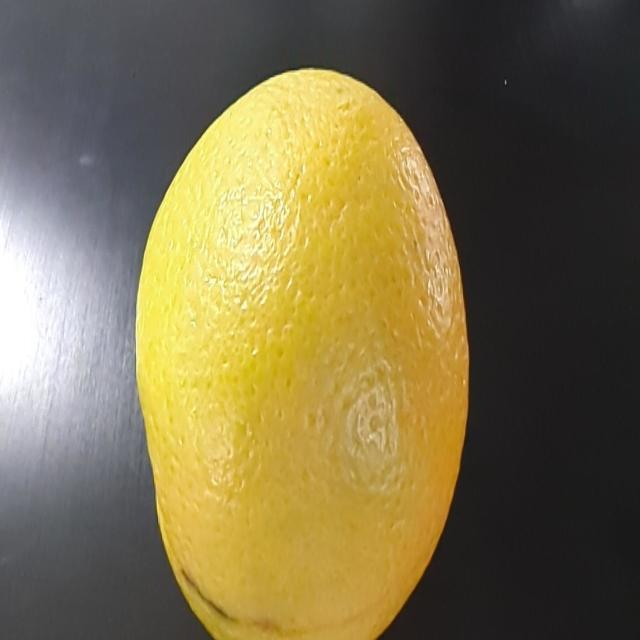Jeruk: (131, 22, 453, 640)
